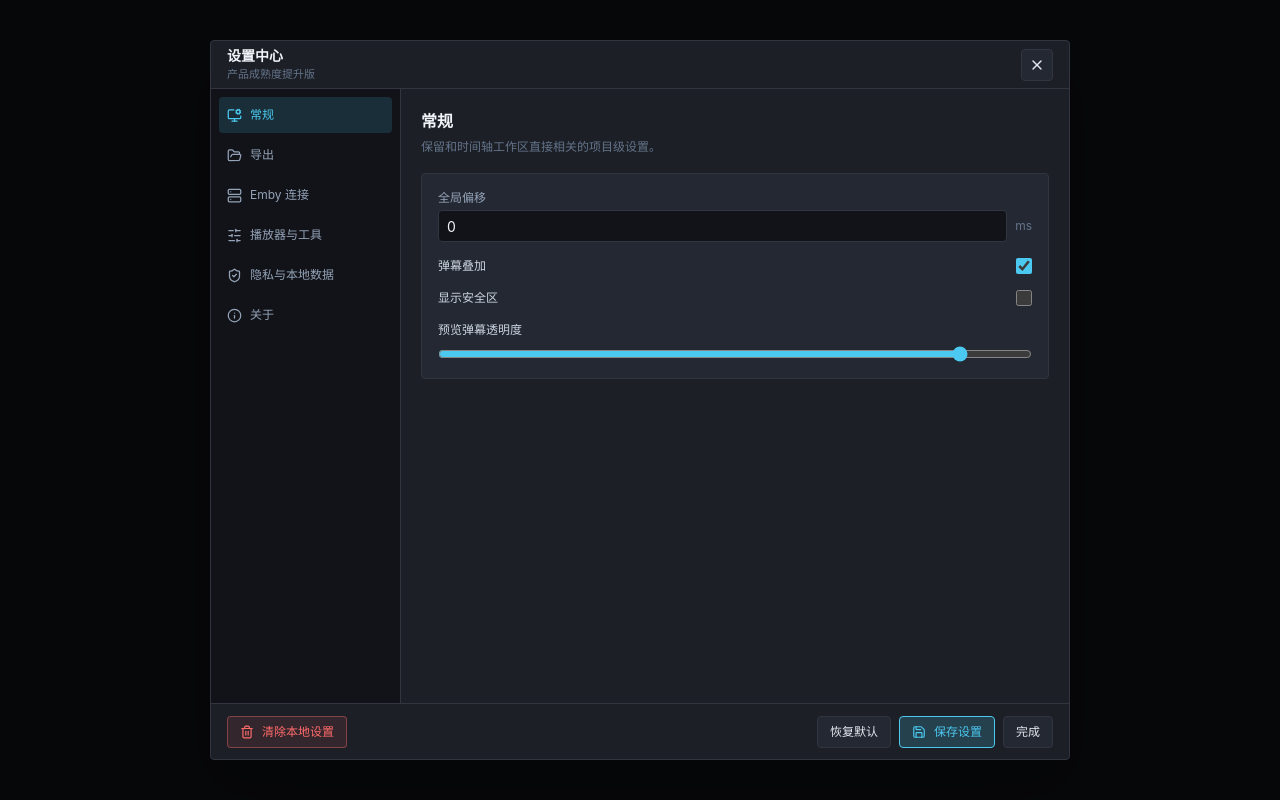
it: 设置中心 › 关于页展示当前成熟度提升主线
Click the button "关于": (306, 315) [219,297,392,333]
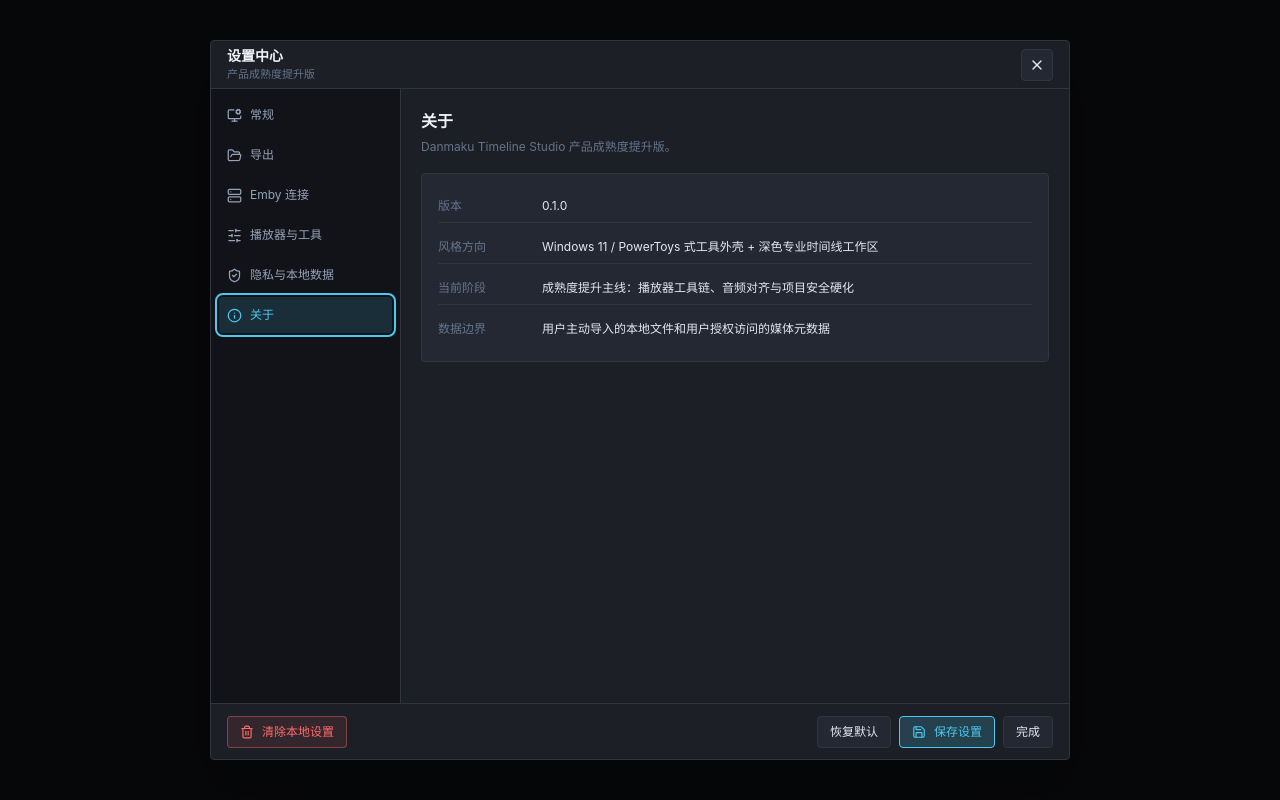
Check: the text "成熟度提升主线：播放器工具链、音频对齐与项目安全硬化" is shown, box [542,280,854,295]
